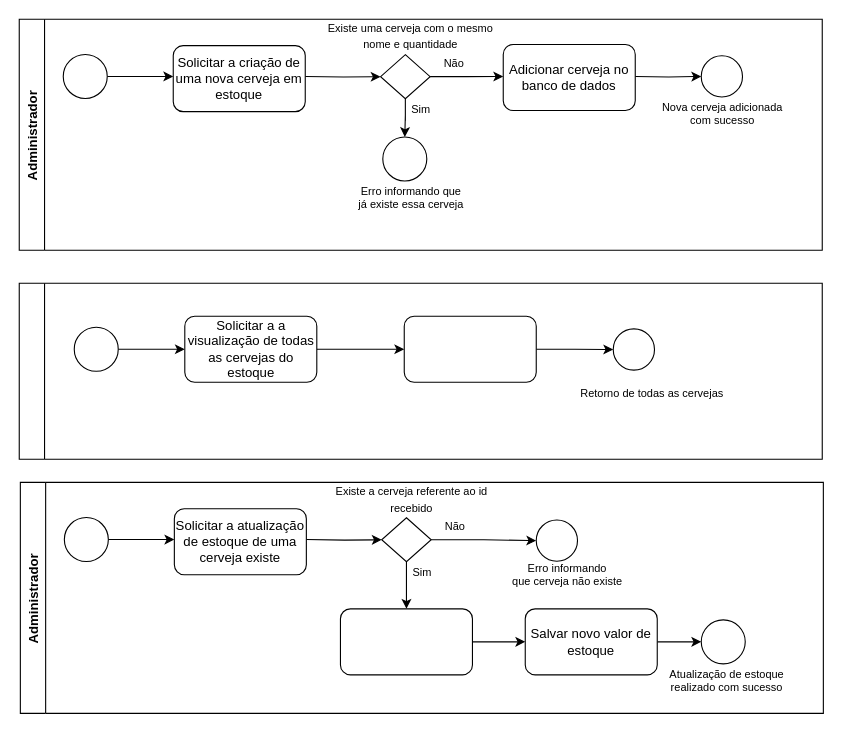
Some shapes in this 843 by 733 pixel diagram are drawn without their labels. The shapes that lost their labels are listed below. From the top down, each one's box as (x1, y1, x2, y2) in pixels, then its label:
(403, 315, 536, 382): Buscar todas as cervejas no banco de dados
(18, 282, 822, 459): Administrador/Cliente
(339, 608, 472, 675): Somar valor recebido ao valor que já existe no estoque
